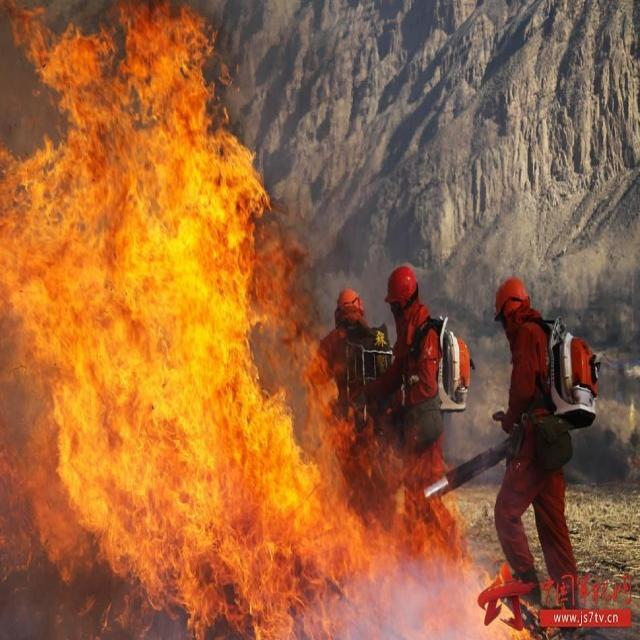fire: (3, 5, 510, 634)
other: (479, 257, 593, 594), (328, 241, 467, 457)
